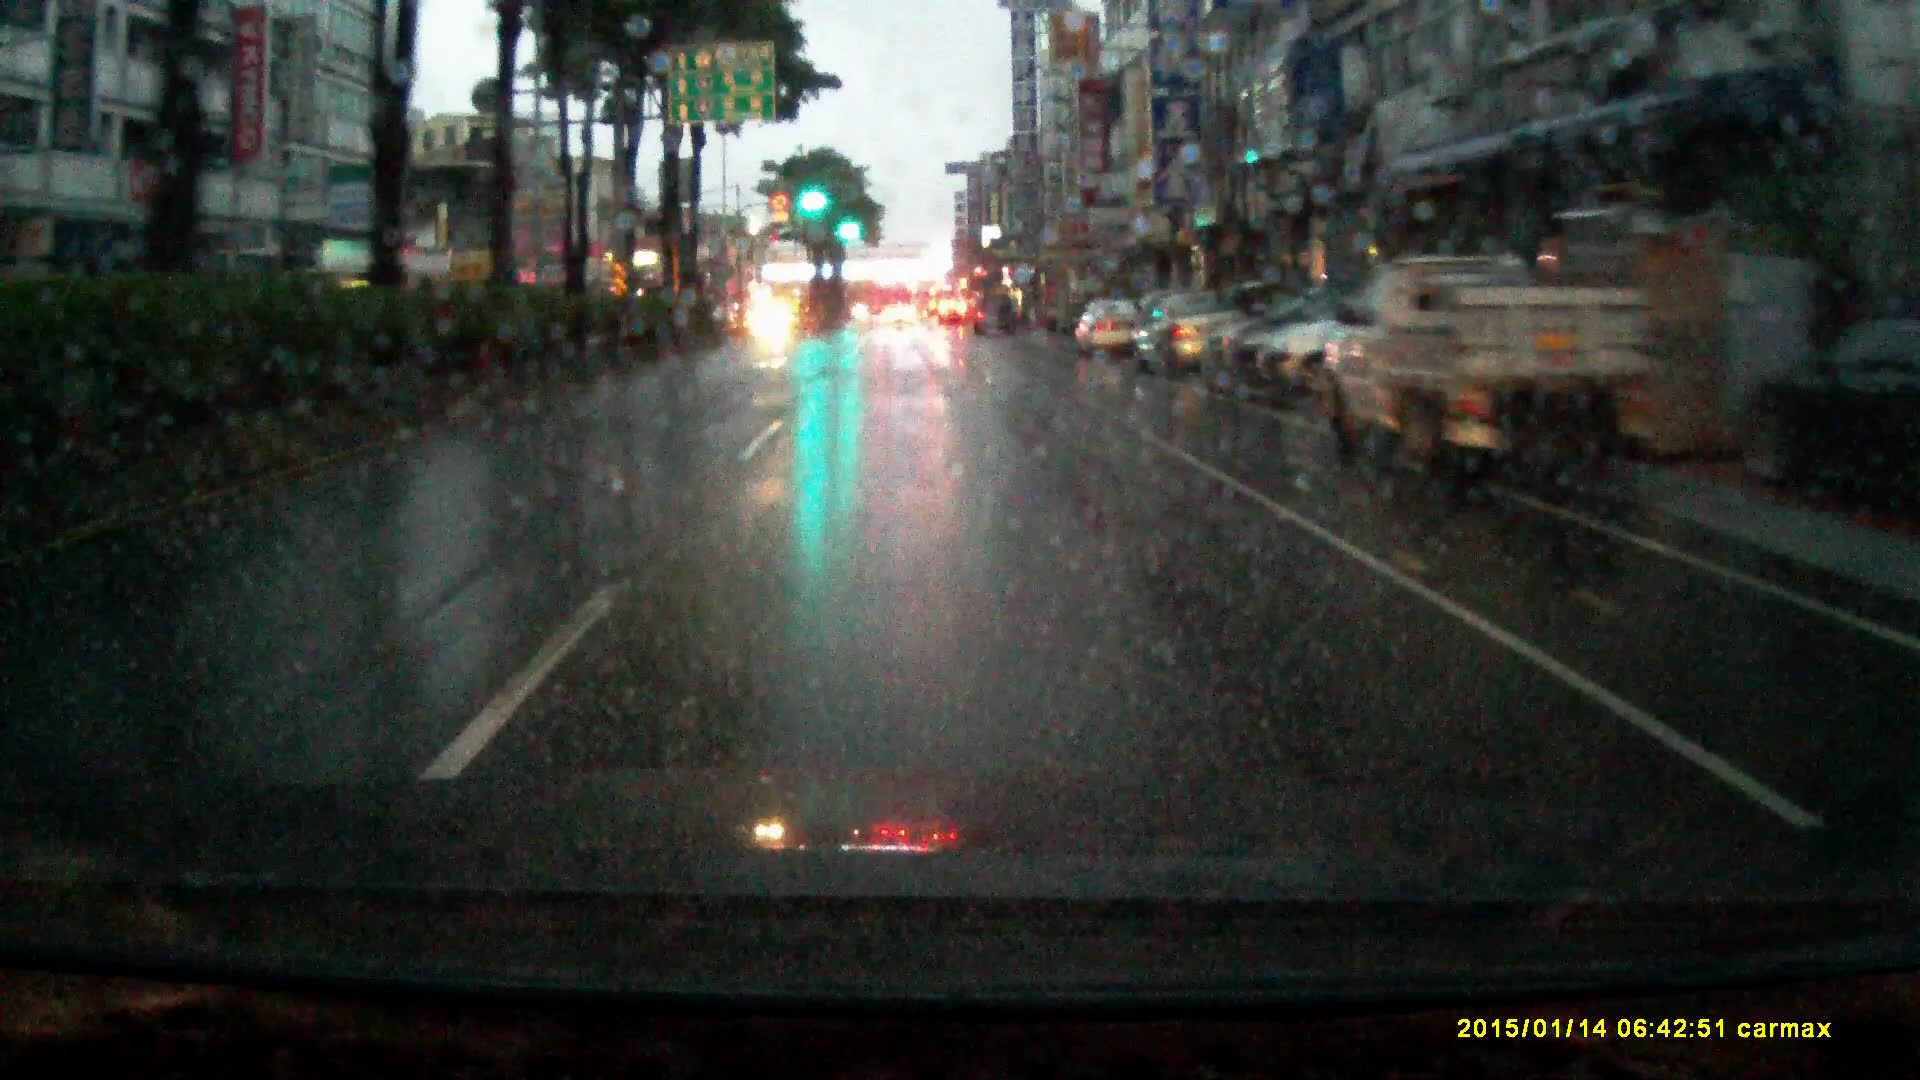vehicle: (1319, 255, 1656, 498), (1716, 309, 1920, 518), (1131, 294, 1261, 382), (1077, 302, 1141, 364), (749, 301, 802, 342), (972, 295, 1021, 339), (913, 284, 938, 319), (940, 301, 968, 326), (886, 305, 916, 324)
